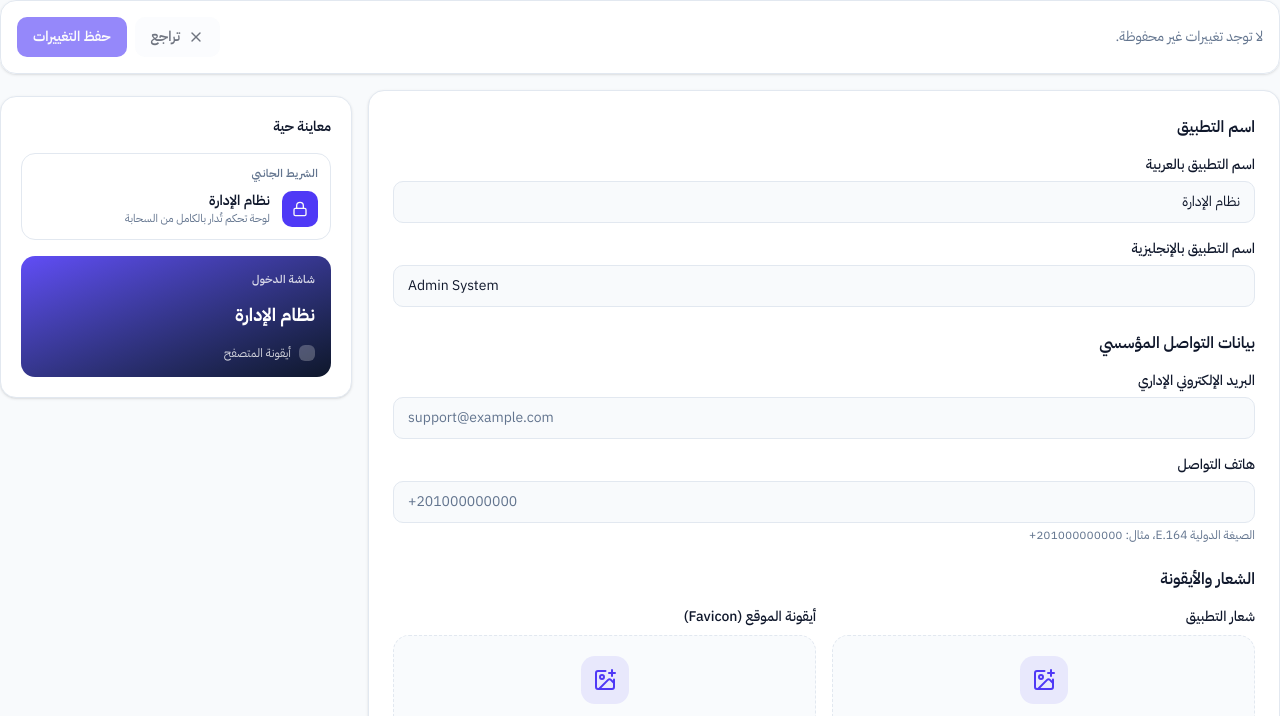
Scenario: GeneralSettings › keeps save disabled until the draft is dirty, then opens a confirm dialog
Expected: the button "حفظ التغييرات" is disabled, x1=17 y1=17 x2=126 y2=57
Replace the text in the field labelled "اسم التطبيق بالعربية" with "هوية جديدة". click: x=824, y=202
box: x1=393 y1=181 x2=1255 y2=223
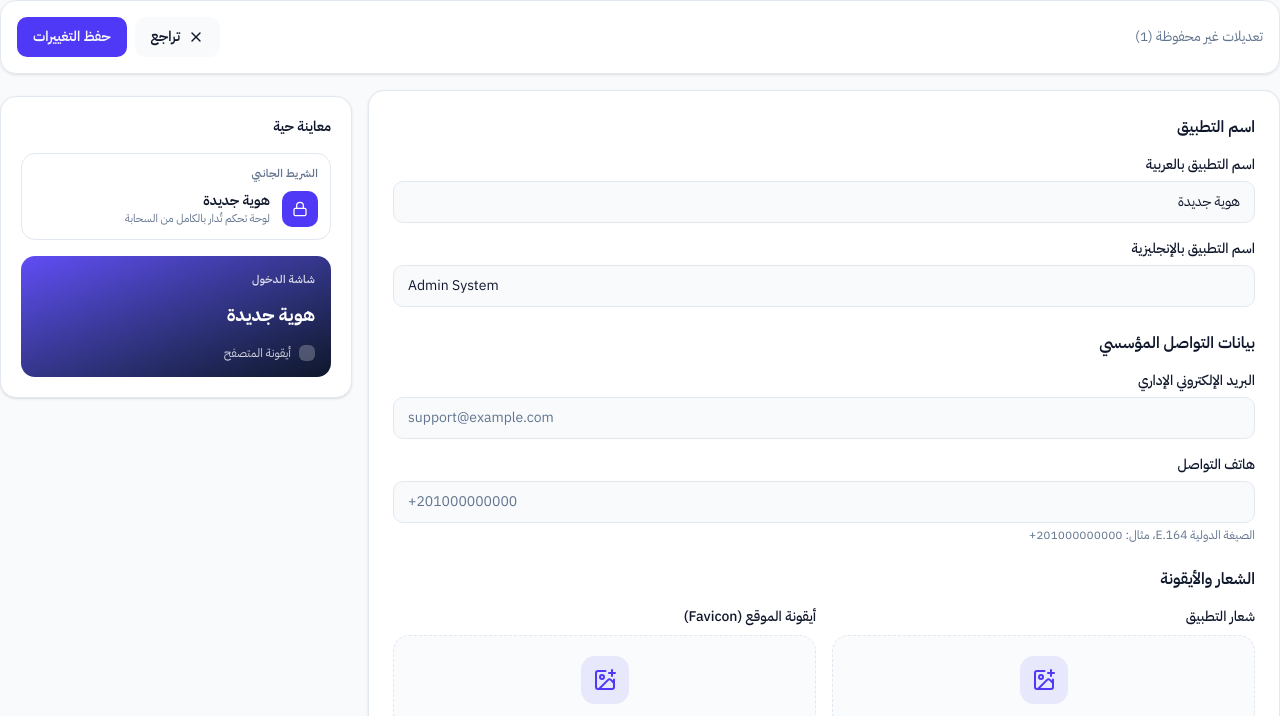
Now the button "حفظ التغييرات" is enabled
Click the button "حفظ التغييرات". click: x=72, y=37
box: x1=17 y1=17 x2=126 y2=57
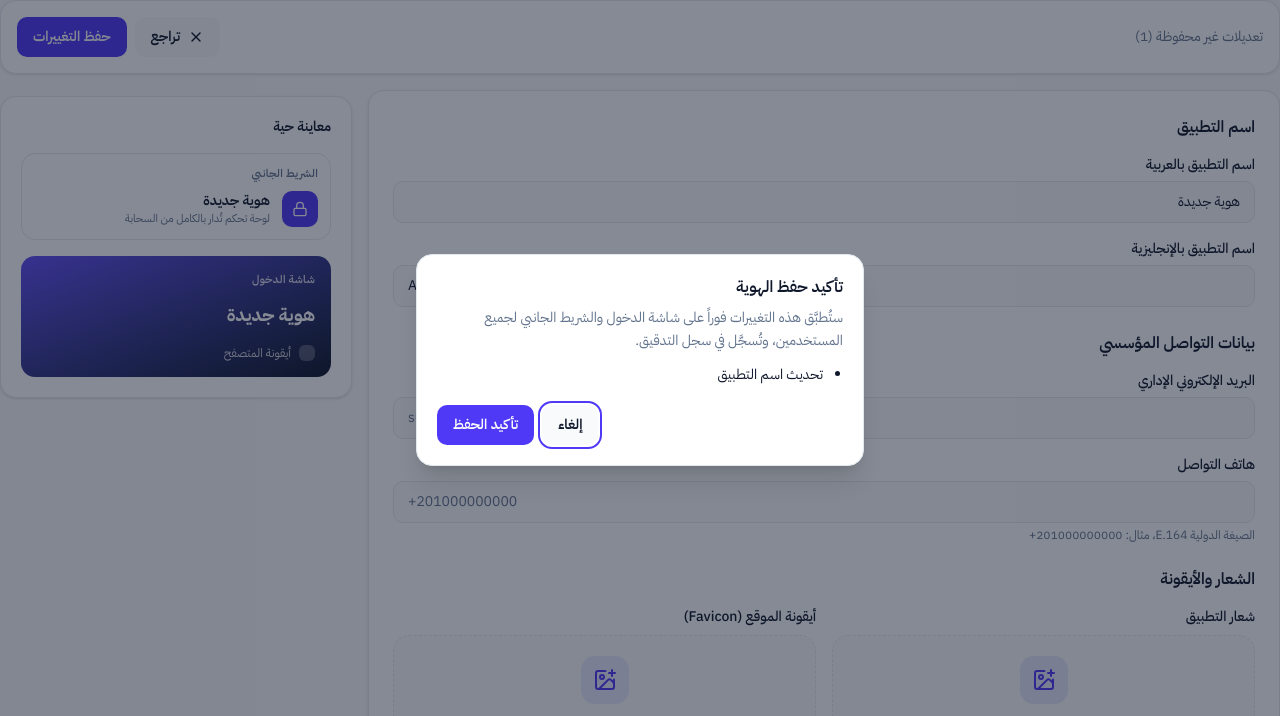
Now the dialog "تأكيد حفظ الهوية" is shown, box x1=416 y1=254 x2=864 y2=466
